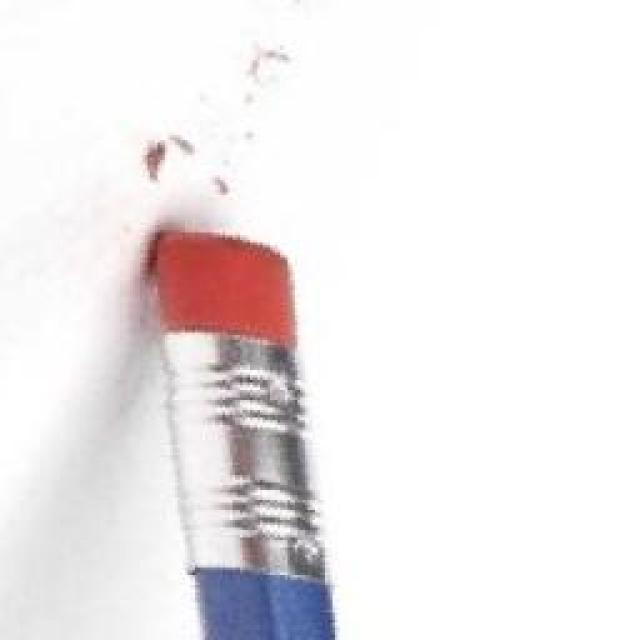Silgi: (155, 231, 300, 344)
